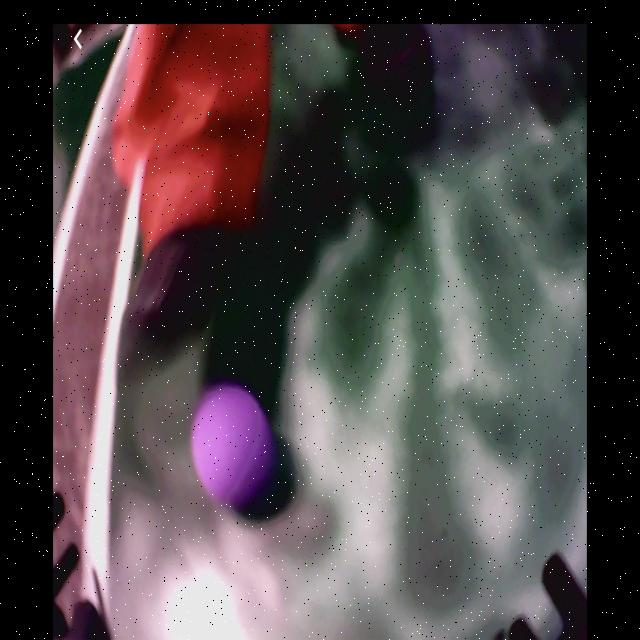ball: (194, 388, 270, 504)
